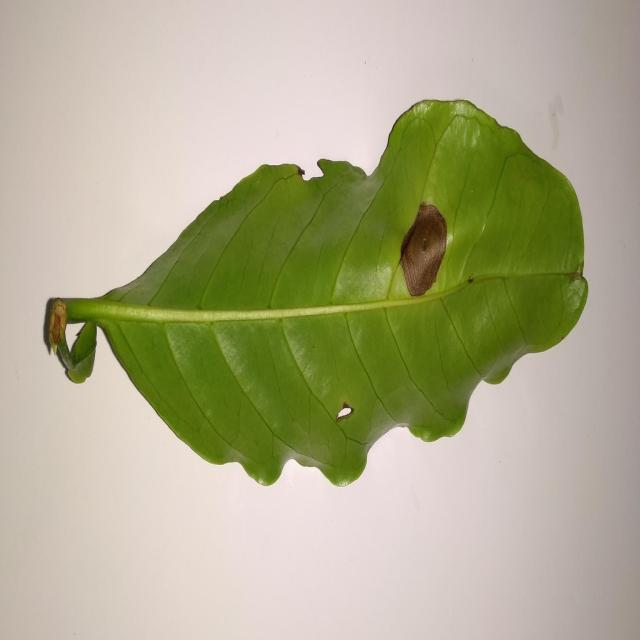phoma: (399, 204, 447, 296)
